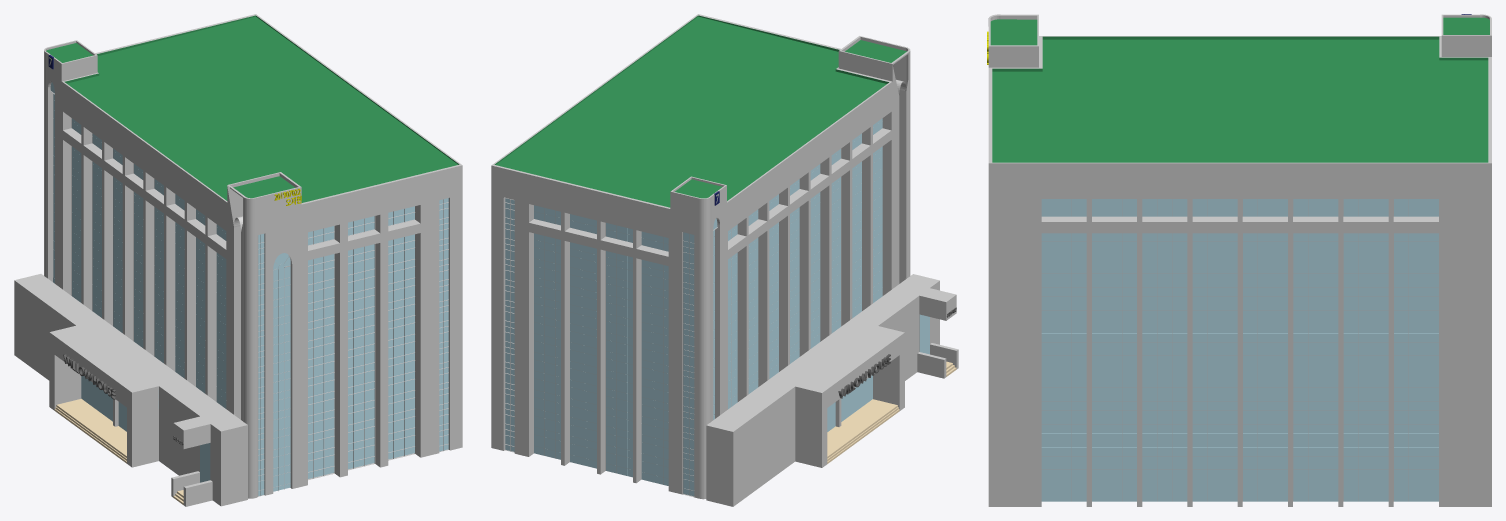
The picture shows the model from 3 angles, left to right: view 1: azimuth 30°, elevation 25°; view 2: azimuth 150°, elevation 25°; view 3: azimuth 270°, elevation 25°; orthographic projection. The views are drawn at different scales.
Visible parts, largest first — view 1: Cube, Cube.048, right-tower.002, Cube.042, Plane.018, left-tower, 7ho-front-door.001, Cube.044, Cube.045, Cube.043, Cube.022, Cube.024 (+5 smaller); view 2: Cube, left-tower, Cube.042, Plane.018, Plane.022, right-tower.002, Plane.026, Plane.002, Plane.023, 7ho-front-door.001, Cube.047, Cube.046 (+6 smaller); view 3: Cube, Plane.025, right-tower.002, left-tower.
Boxes of the visible parts, x1,y1,x2,y2 form: Cube: [61, 14, 462, 486]; Cube.048: [308, 206, 414, 478]; right-tower.002: [227, 172, 301, 498]; Cube.042: [14, 274, 247, 506]; Plane.018: [72, 118, 226, 408]; left-tower: [44, 40, 97, 288]; 7ho-front-door.001: [49, 324, 166, 411]; Cube.044: [273, 253, 290, 491]; Cube.045: [439, 198, 448, 451]; Cube.043: [258, 234, 264, 495]; Cube.022: [127, 405, 158, 467]; Cube.024: [56, 398, 126, 457]; Cube: [491, 14, 892, 491]; left-tower: [670, 176, 726, 499]; Cube.042: [706, 274, 939, 506]; Plane.018: [728, 118, 882, 409]; Plane.022: [641, 231, 668, 485]; right-tower.002: [838, 36, 910, 288]; Plane.026: [534, 205, 560, 459]; Plane.002: [606, 223, 632, 477]; Plane.023: [570, 214, 596, 468]; 7ho-front-door.001: [787, 324, 904, 411]; Cube.047: [683, 232, 694, 496]; Cube.046: [505, 198, 514, 451]; Cube: [988, 36, 1491, 506]; Plane.025: [1041, 199, 1438, 501]; right-tower.002: [988, 14, 1038, 67]; left-tower: [1441, 14, 1491, 56].
Size of the model in its own units: 151 by 160 by 201.
